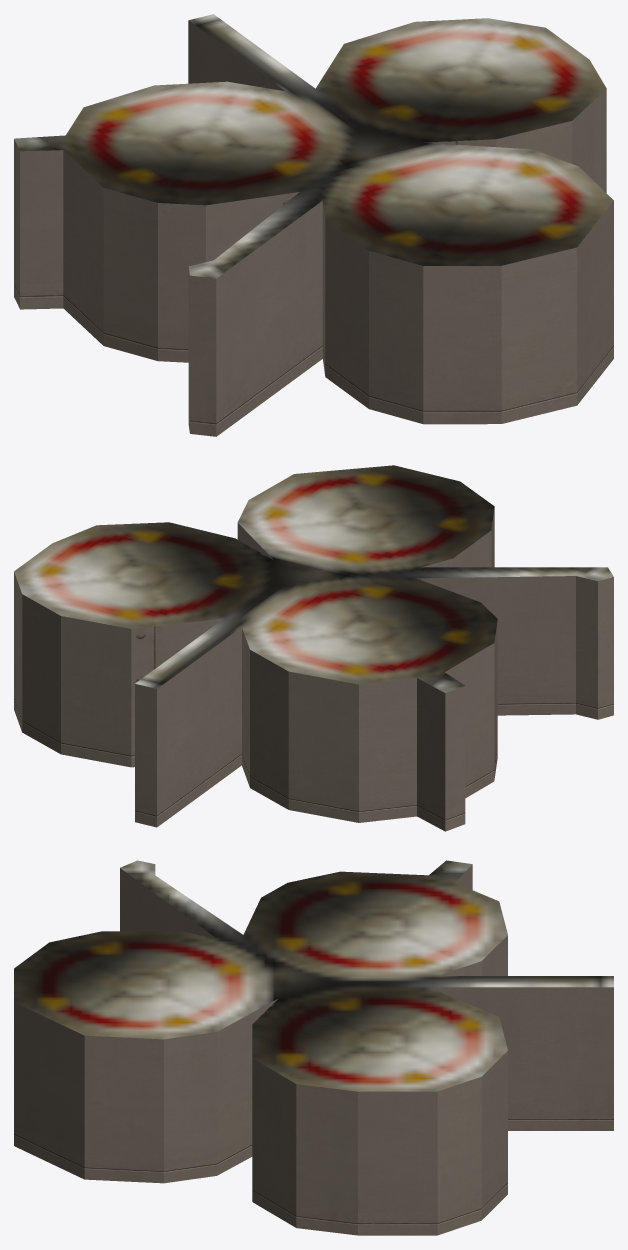
File: fuel_tank_light_49.glb
3 renders of one model, top to bottom at view 1: azimuth 30°, elevation 25°; view 2: azimuth 150°, elevation 25°; view 3: azimuth 270°, elevation 25°, orthographic. The views are drawn at different scales.
Parts seen in each view (by area): view 1: buildings/saxarba/fuel_tanks/fuel_tank_light_49; view 2: buildings/saxarba/fuel_tanks/fuel_tank_light_49; view 3: buildings/saxarba/fuel_tanks/fuel_tank_light_49.
Boxes of the visible parts, x1,y1,x2,y2 form: buildings/saxarba/fuel_tanks/fuel_tank_light_49: [14, 14, 613, 436]; buildings/saxarba/fuel_tanks/fuel_tank_light_49: [14, 465, 613, 831]; buildings/saxarba/fuel_tanks/fuel_tank_light_49: [14, 860, 613, 1235].
Size of the model in its own units: 62 by 18 by 68.
